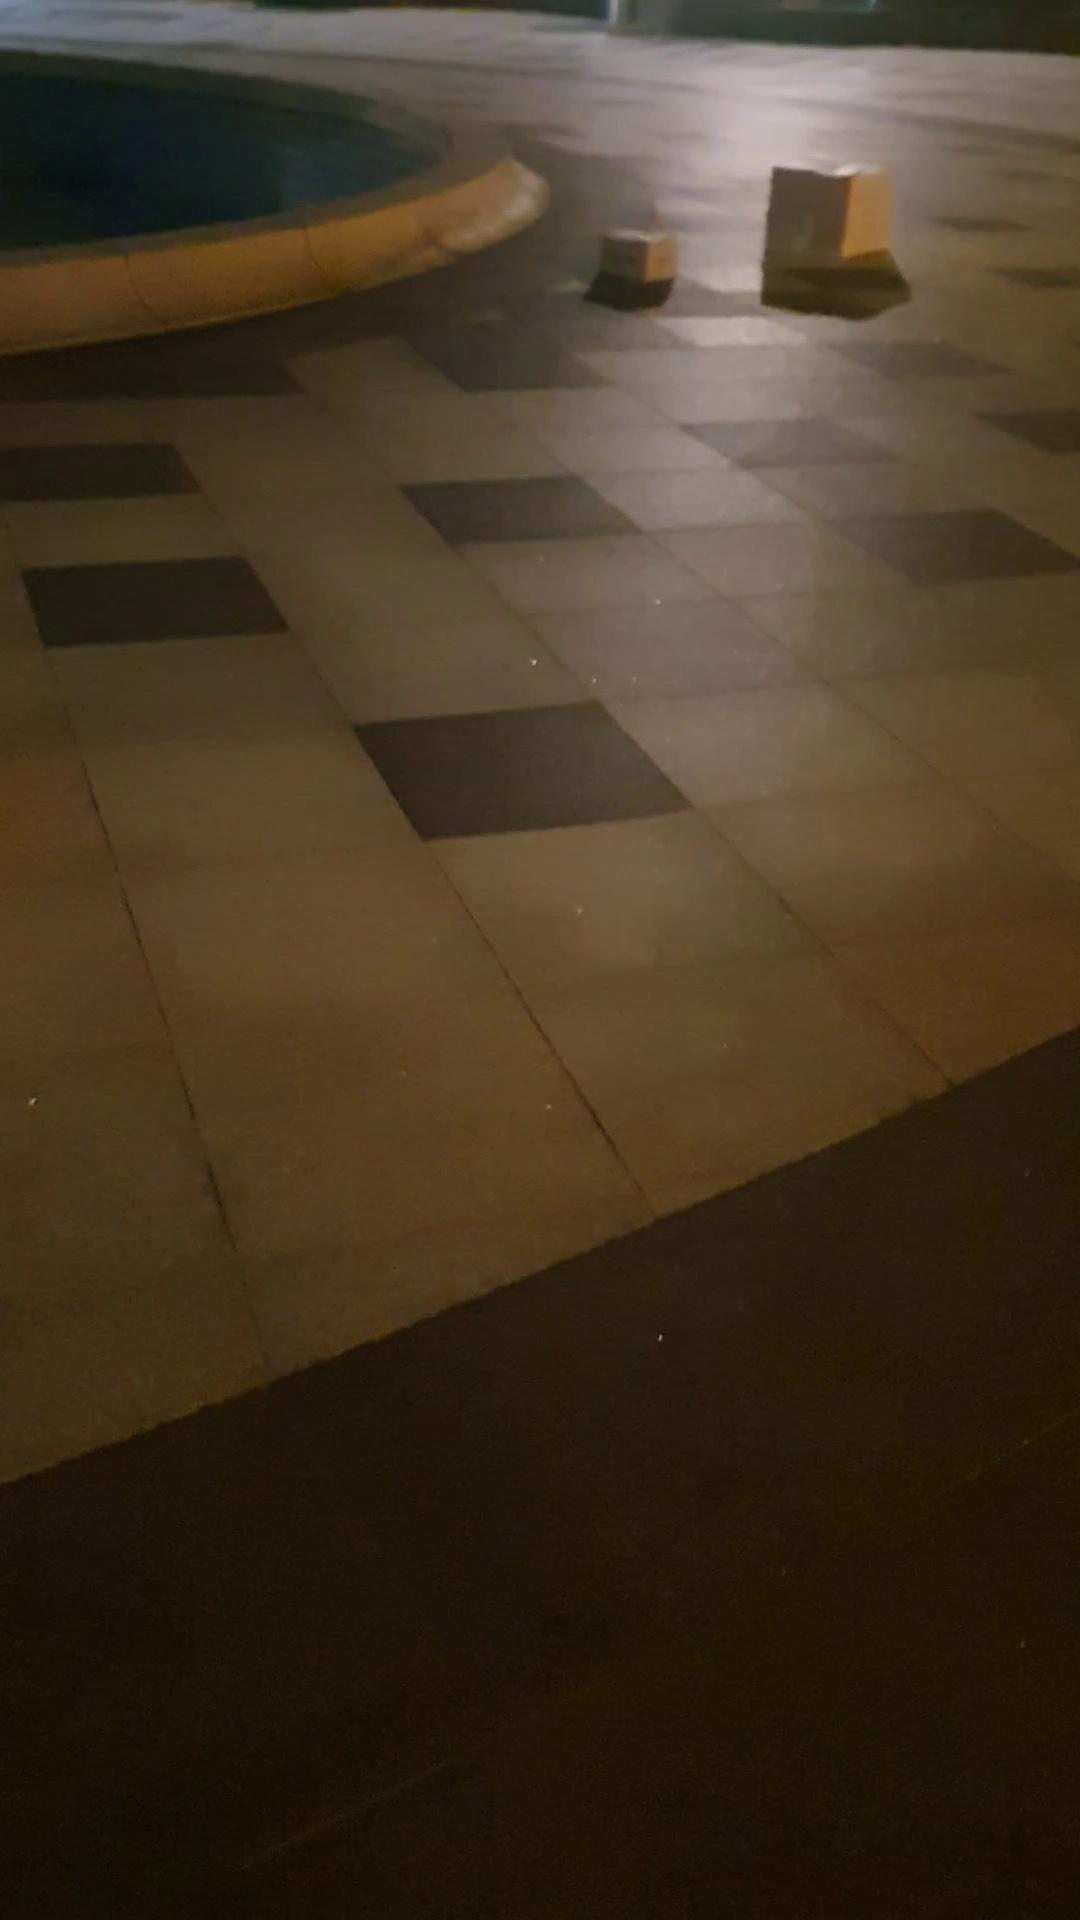Box: (771, 160, 885, 287), (585, 198, 676, 302)
